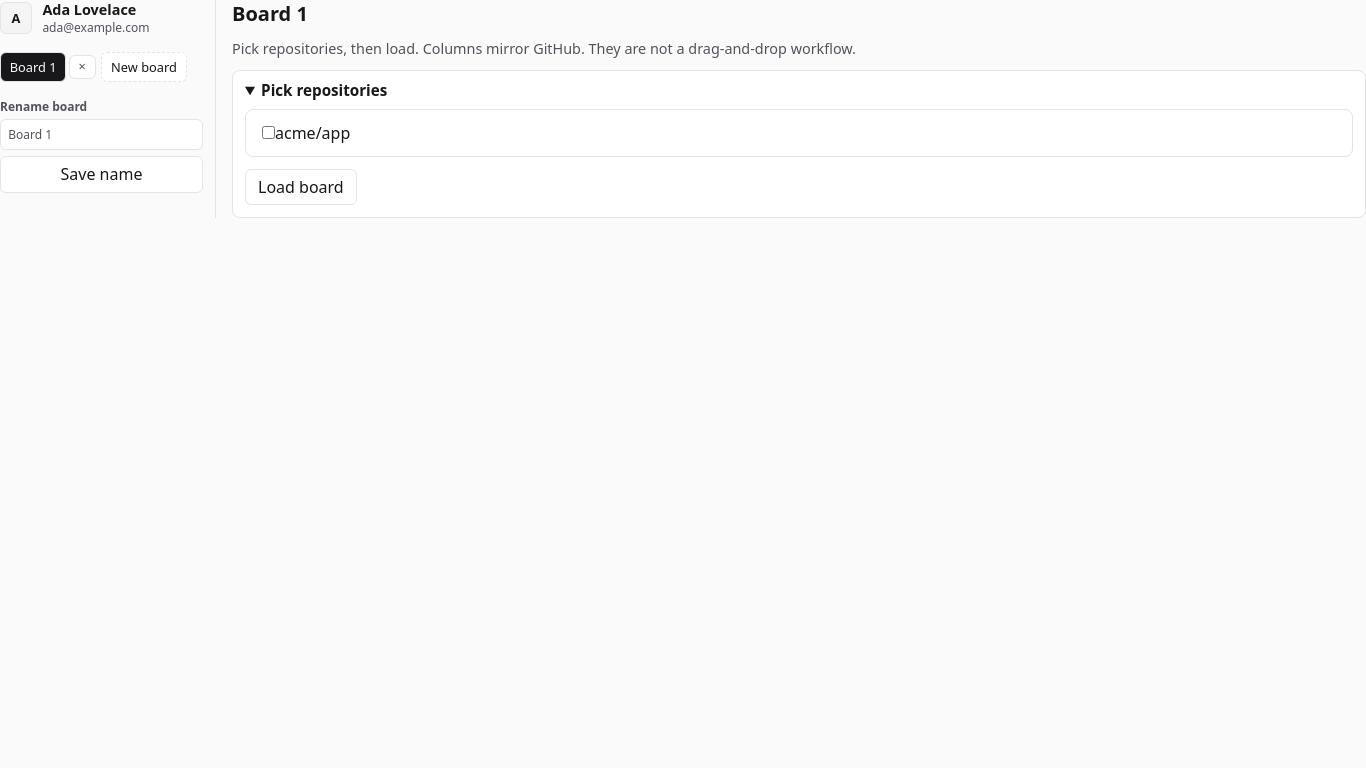
overlap failure leaves the board unchanged
The width and height of the screenshot is (1366, 768).
Expected: the text "acme/app" is shown, x1=262 y1=122 x2=350 y2=144
Click the checkbox labelled "acme/app": [268, 132] box x1=262 y1=126 x2=275 y2=139
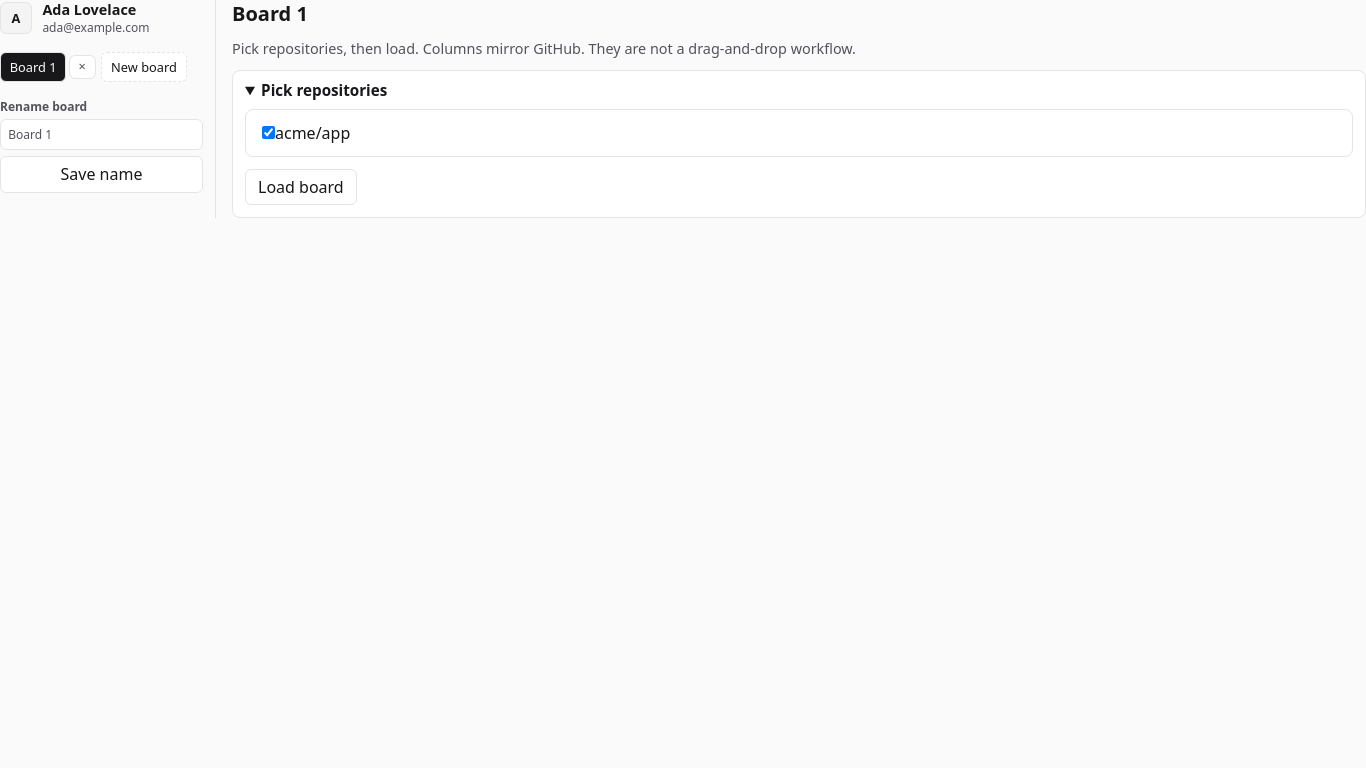
Click the button "Load board": [301, 187] box x1=245 y1=169 x2=357 y2=205
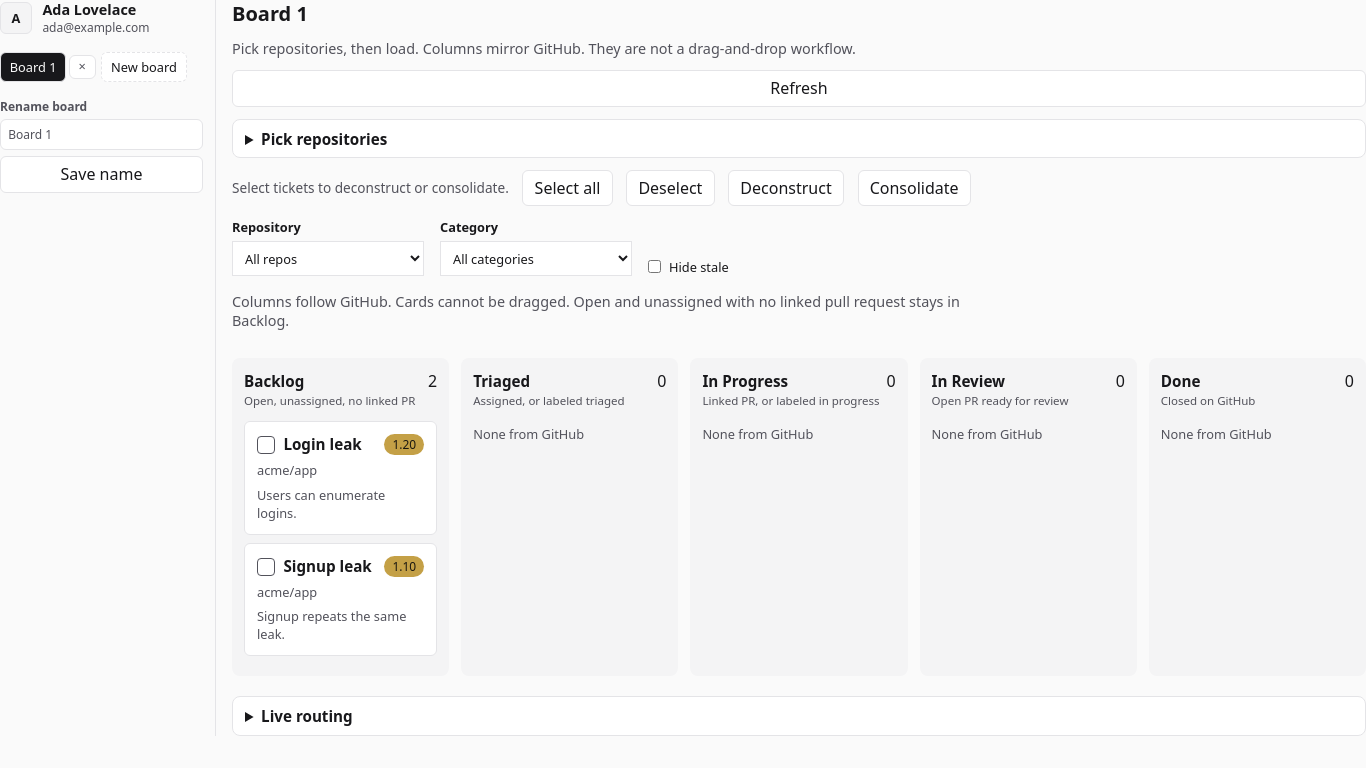
Result: the heading "Login leak" is shown at x1=283 y1=434 x2=362 y2=454
Click the checkbox named "Select acme/app#1": [266, 445] box x1=257 y1=436 x2=275 y2=454
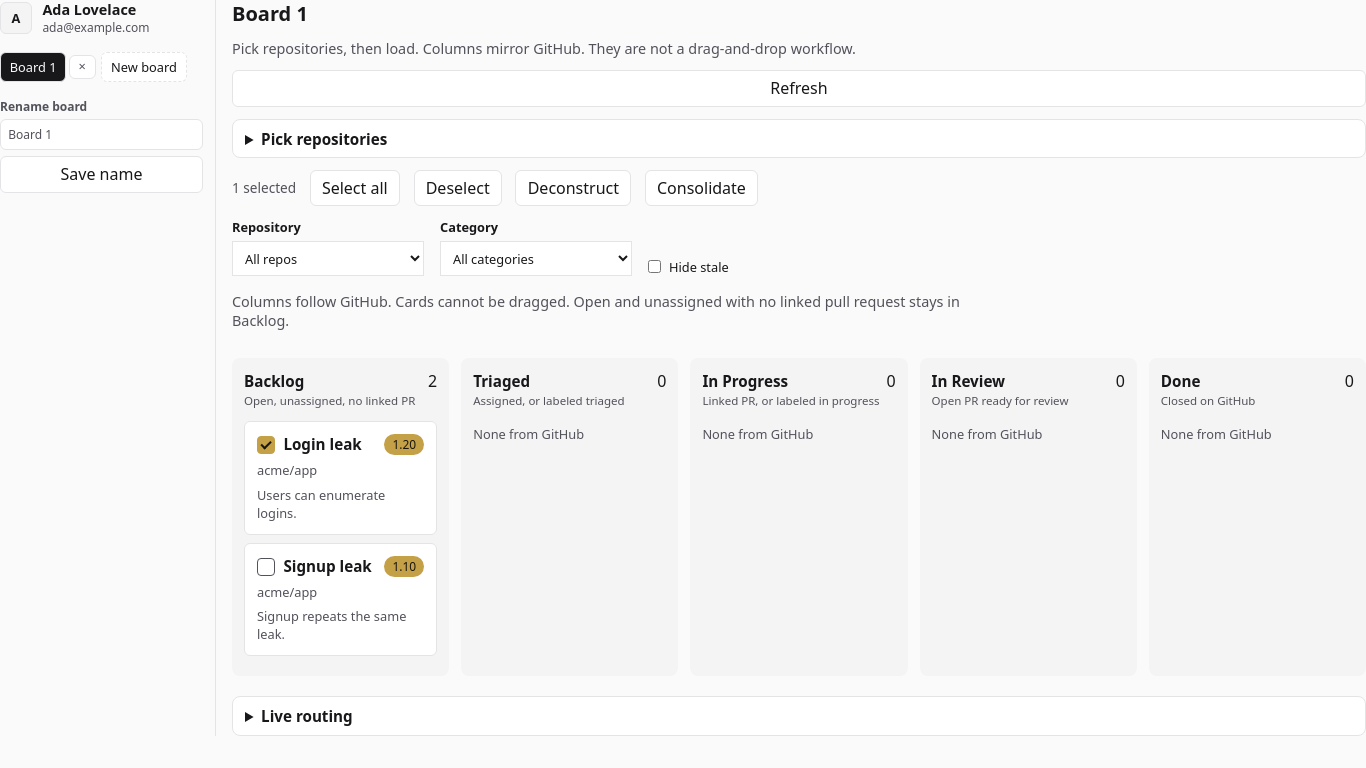
Click the checkbox named "Select acme/app#2": [266, 567] box x1=257 y1=558 x2=275 y2=576
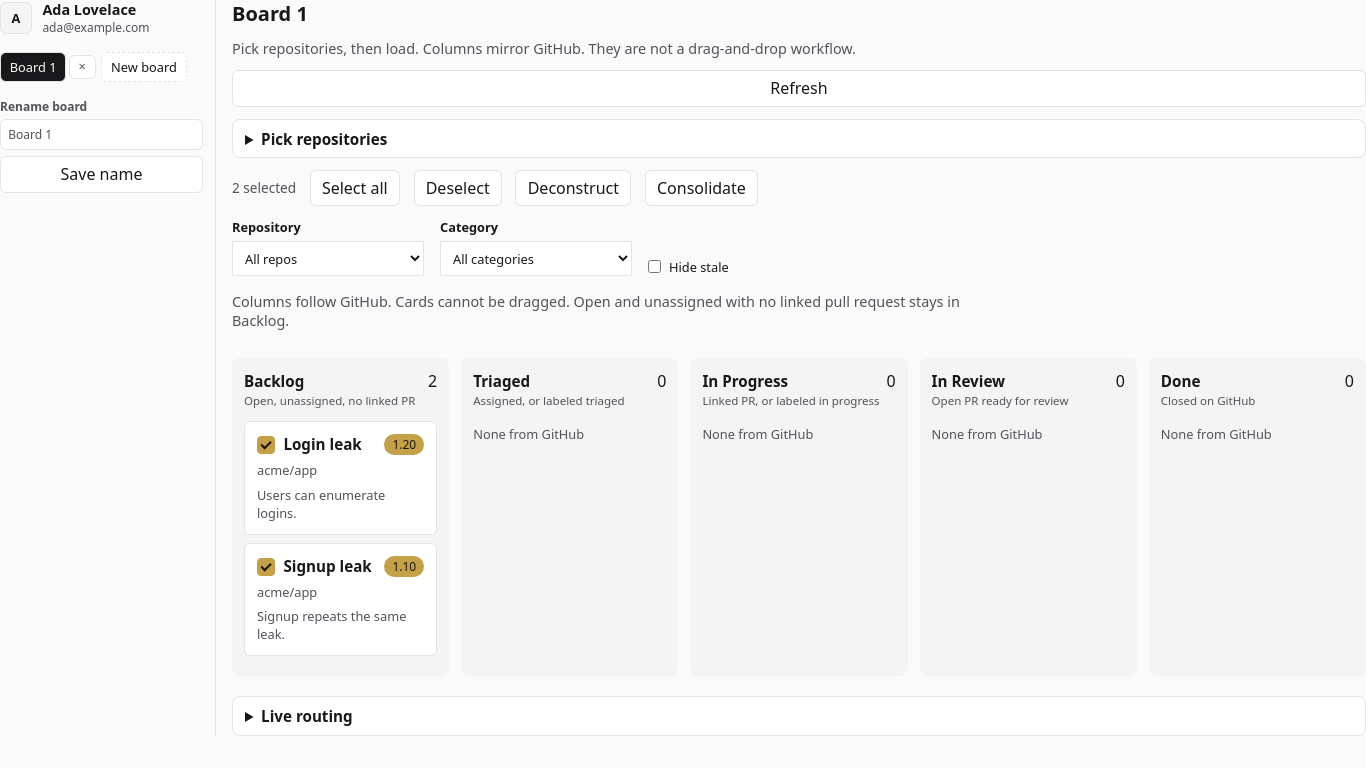
Click the button "Consolidate": [701, 188] box x1=645 y1=170 x2=758 y2=206
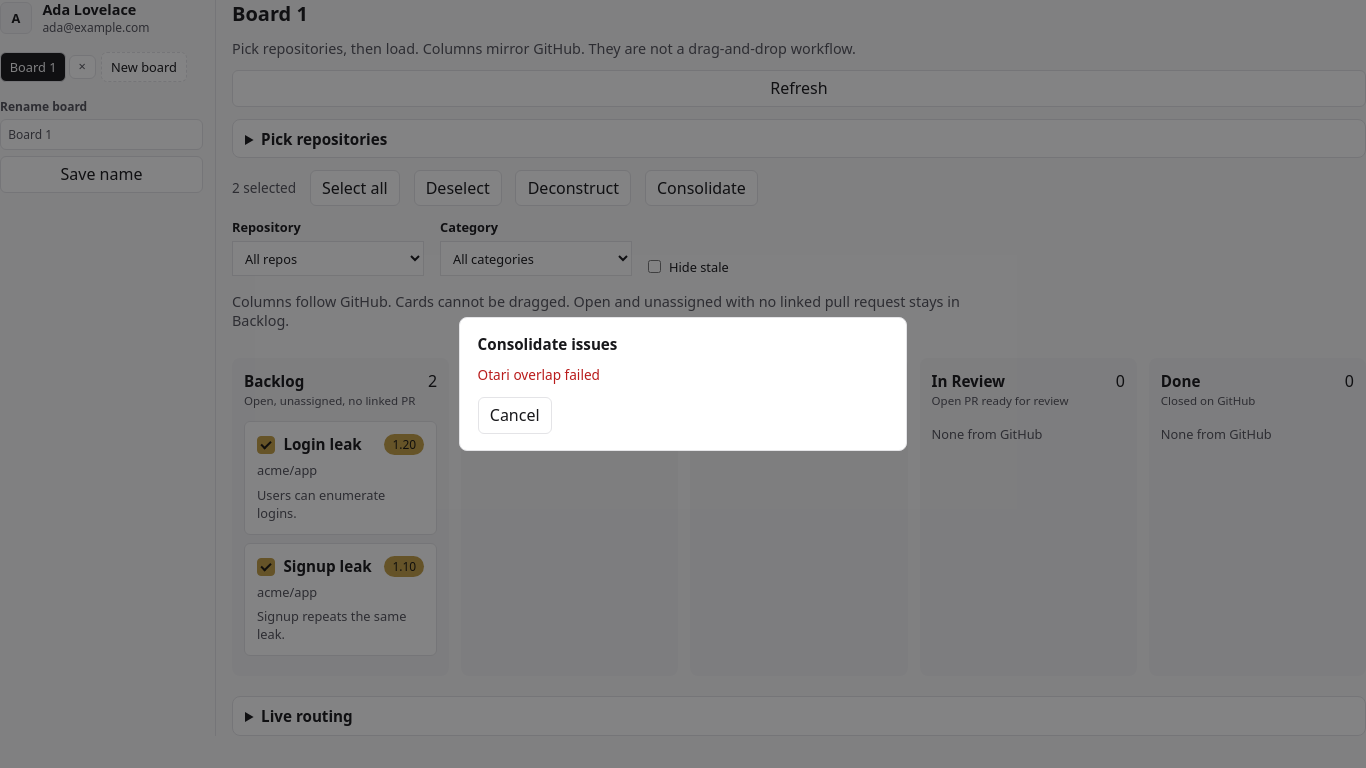
Result: the heading "Login leak" is shown at x1=283 y1=434 x2=362 y2=454
Result: the text "Otari overlap failed" is shown at x1=478 y1=364 x2=600 y2=384
